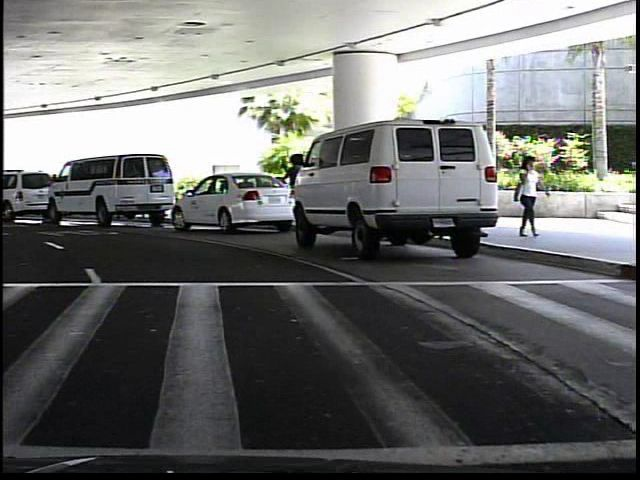person: (509, 148, 548, 243)
